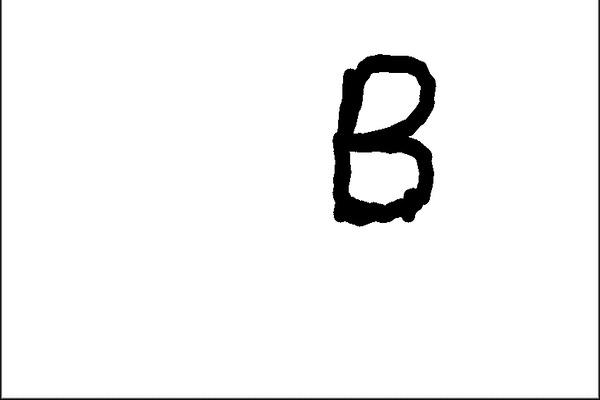B: (325, 46, 444, 231)
